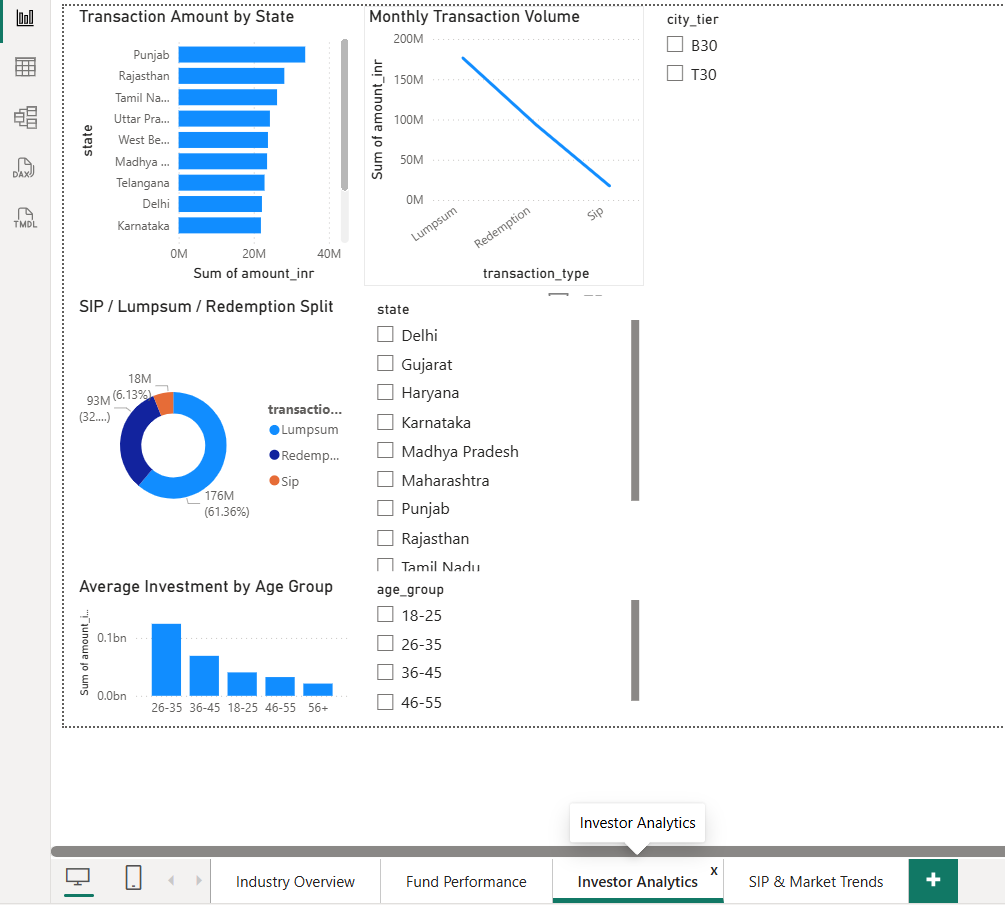

The dashboard page shown, as its layout file describes it:
{"tool":"powerbi","page":{"name":"Investor Analytics","canvas":[1280,720],"ordinal":2},"visuals":[{"type":"clusteredBarChart","title":"Transaction Amount by State","fields":{"Y":["Sum(08_investor_transactions_cleaned.amount_inr)"],"Category":["08_investor_transactions_cleaned.state"]},"box":[10,0,280,280],"z":0},{"type":"donutChart","title":"SIP / Lumpsum / Redemption Split","fields":{"Y":["Sum(08_investor_transactions_cleaned.amount_inr)"],"Category":["08_investor_transactions_cleaned.transaction_type"]},"box":[10,290,280,280],"z":1},{"type":"columnChart","title":"Average Investment by Age Group","fields":{"Category":["08_investor_transactions_cleaned.age_group"],"Y":["Sum(08_investor_transactions_cleaned.amount_inr)"]},"box":[10,570,280,150],"z":2},{"type":"lineChart","title":"Monthly Transaction Volume","fields":{"Category":["08_investor_transactions_cleaned.transaction_type"],"Y":["Sum(08_investor_transactions_cleaned.amount_inr)"]},"box":[300,0,280,280],"z":3},{"type":"slicer","fields":{"Values":["08_investor_transactions_cleaned.state"]},"box":[300,290,280,280],"z":4},{"type":"slicer","fields":{"Values":["08_investor_transactions_cleaned.age_group"]},"box":[300,570,280,150],"z":5},{"type":"slicer","fields":{"Values":["08_investor_transactions_cleaned.city_tier"]},"box":[590,0,280,280],"z":6}]}

Visuals, with their boxes on the page's 1280x720 design canvas (x1, y1, x2, y2). These are canvas units, not pixel positions in the 1005x905 screenshot, which may show the page scaled, cropped or inside an application window:
"Transaction Amount by State" clusteredBarChart: pyautogui.locateOnScreen(10, 0, 290, 280)
"SIP / Lumpsum / Redemption Split" donutChart: pyautogui.locateOnScreen(10, 290, 290, 570)
"Average Investment by Age Group" columnChart: pyautogui.locateOnScreen(10, 570, 290, 720)
"Monthly Transaction Volume" lineChart: pyautogui.locateOnScreen(300, 0, 580, 280)
slicer - 08_investor_transactions_cleaned.state: pyautogui.locateOnScreen(300, 290, 580, 570)
slicer - 08_investor_transactions_cleaned.age_group: pyautogui.locateOnScreen(300, 570, 580, 720)
slicer - 08_investor_transactions_cleaned.city_tier: pyautogui.locateOnScreen(590, 0, 870, 280)
